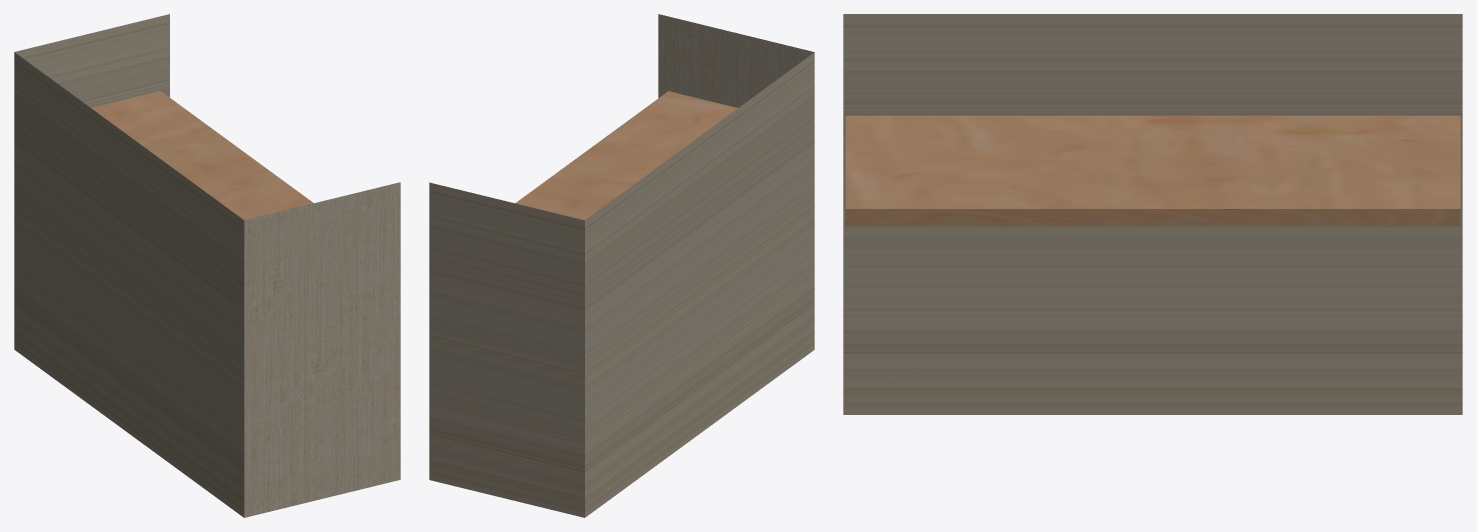
File: desk.glb
3 views of the same model, side by side, from view 1: azimuth 30°, elevation 25°; view 2: azimuth 150°, elevation 25°; view 3: azimuth 270°, elevation 25° (orthographic). The views are drawn at different scales.
Parts seen in each view (by area): view 1: Table legs, Table top; view 2: Table legs, Table top; view 3: Table legs, Table top.
Boxes of the visible parts, x1,y1,x2,y2 form: Table legs: (14, 14, 400, 517); Table top: (91, 91, 313, 220); Table legs: (429, 14, 814, 517); Table top: (515, 91, 737, 220); Table legs: (843, 14, 1462, 414); Table top: (845, 115, 1460, 225).
Size of the model in its own units: 2.2 by 4 by 5.6.
Materials: 2 (2 with a texture image).
